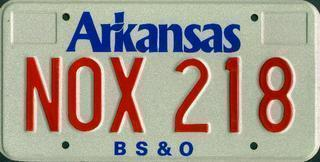placa de veiculo: (7, 5, 320, 160)
